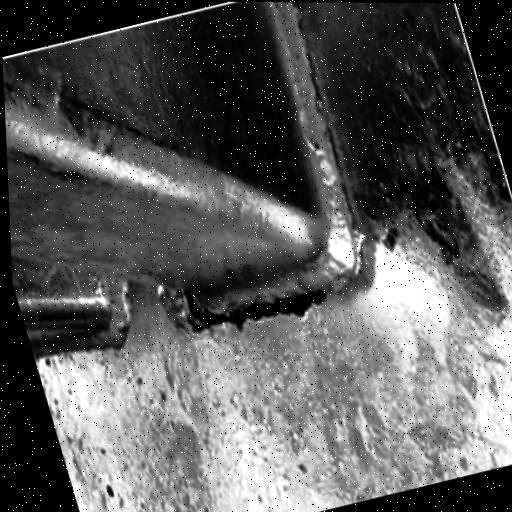crack: (178, 261, 346, 348)
